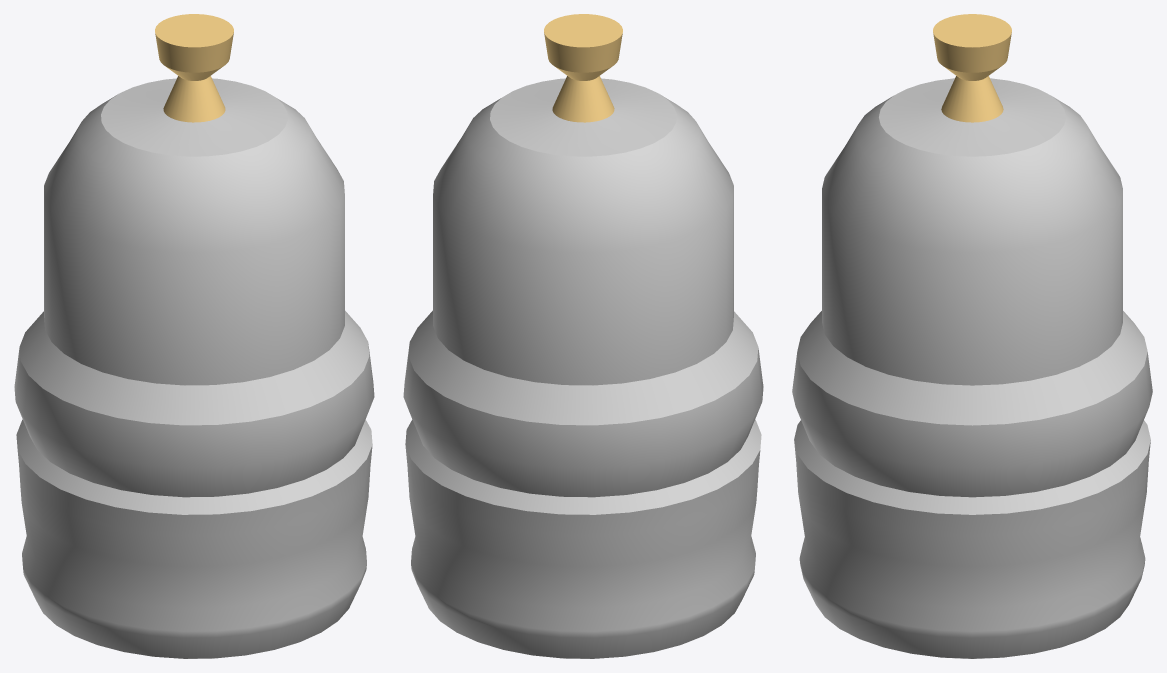
Rendered from bottle48.glb.
3 views of the same model, side by side, from view 1: azimuth 30°, elevation 25°; view 2: azimuth 150°, elevation 25°; view 3: azimuth 270°, elevation 25° (orthographic).
Visible parts, largest first — view 1: Bottle48; view 2: Bottle48; view 3: Bottle48.
Boxes of the visible parts, left/top/right/bottom form: Bottle48: left=14, top=14, right=374, bottom=658; Bottle48: left=403, top=14, right=763, bottom=658; Bottle48: left=792, top=14, right=1152, bottom=658.
Size of the model in its own units: 0.5179 by 0.9037 by 0.5179.
